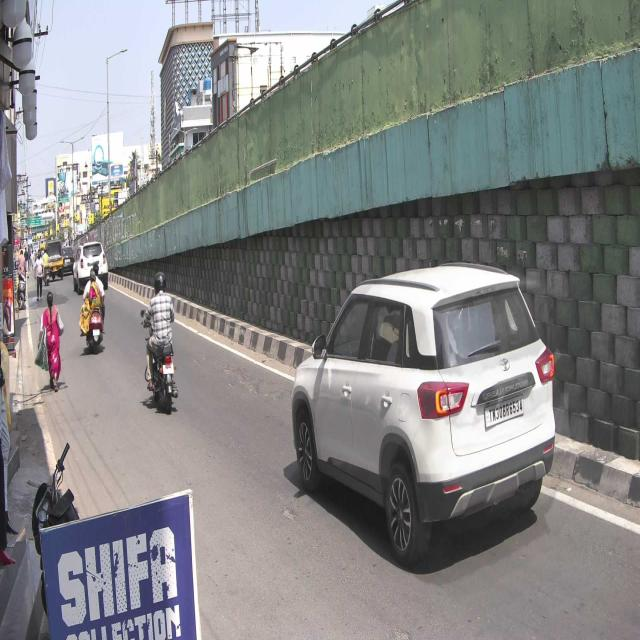single_rider: (140, 271, 179, 413)
